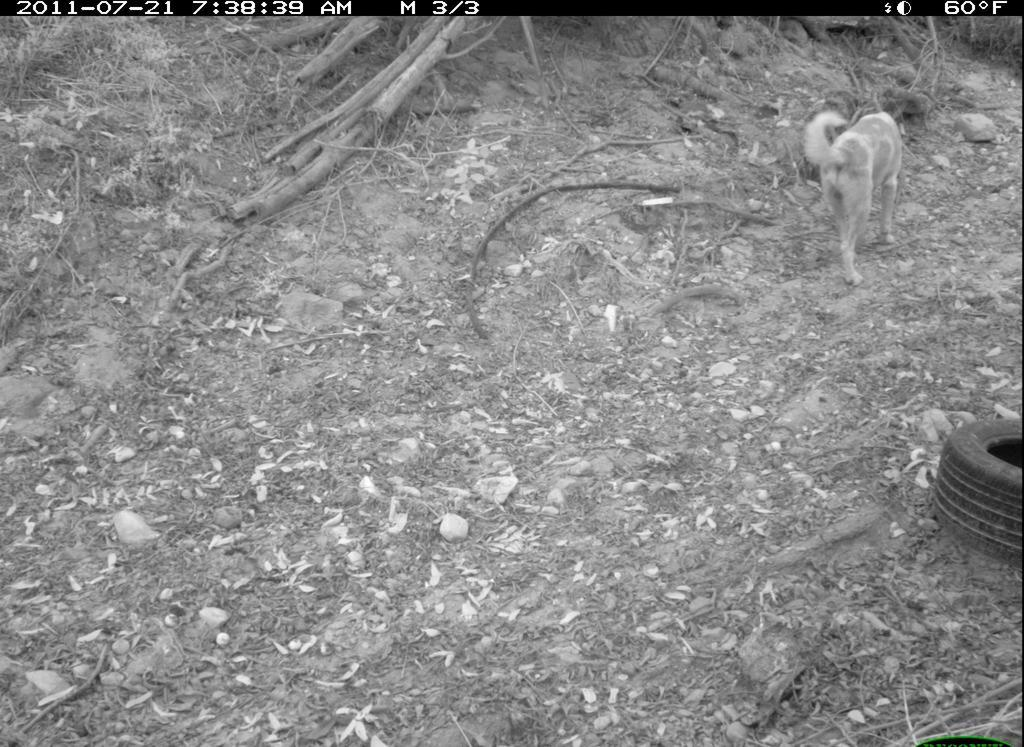dog: (803, 107, 905, 291)
